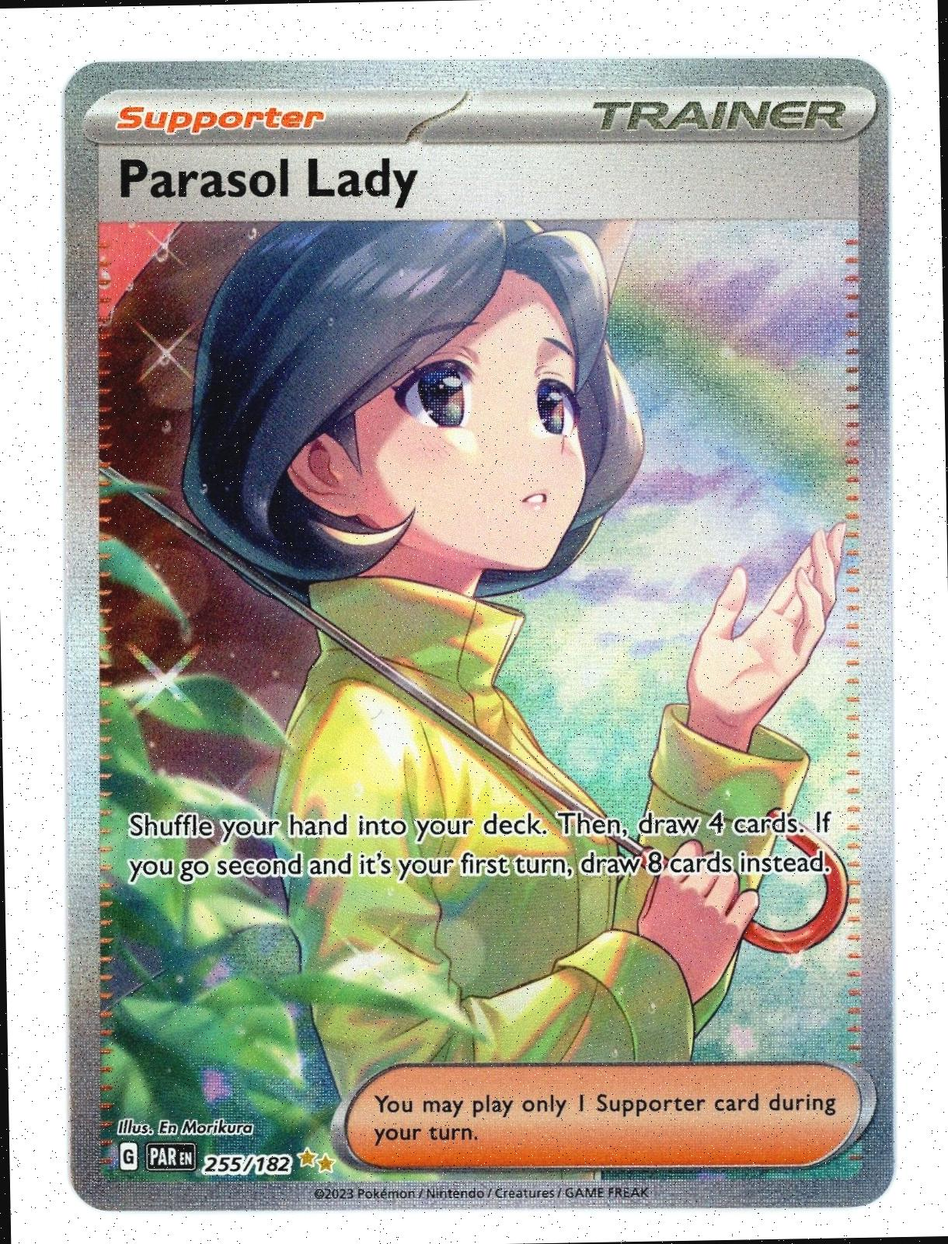card-2UtV: (64, 57, 894, 1211)
